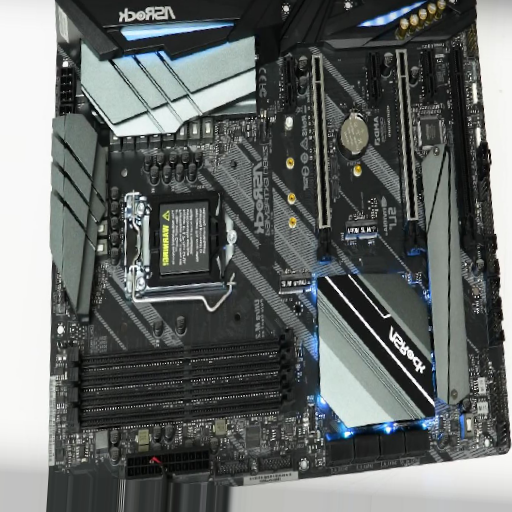CPU: (123, 194, 243, 290)
GPU: (391, 48, 428, 258), (307, 51, 341, 263)
MOTHERBOARD: (41, 3, 512, 484)
RAM: (65, 330, 298, 431)
SSD: (342, 218, 382, 243), (277, 273, 316, 296)
